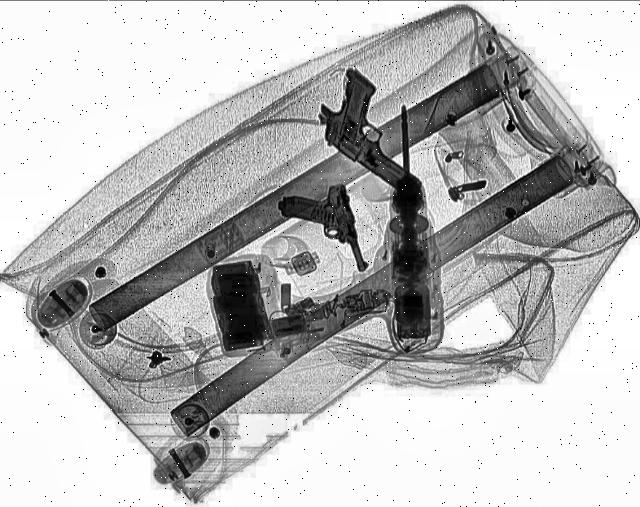Gun: (286, 65, 458, 189), (276, 180, 370, 280)
